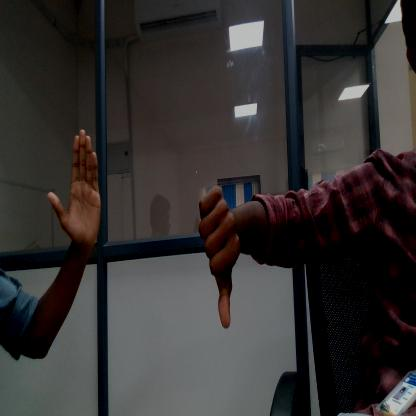Stop: (50, 110, 106, 245)
Thumbs Down: (190, 179, 248, 339)
